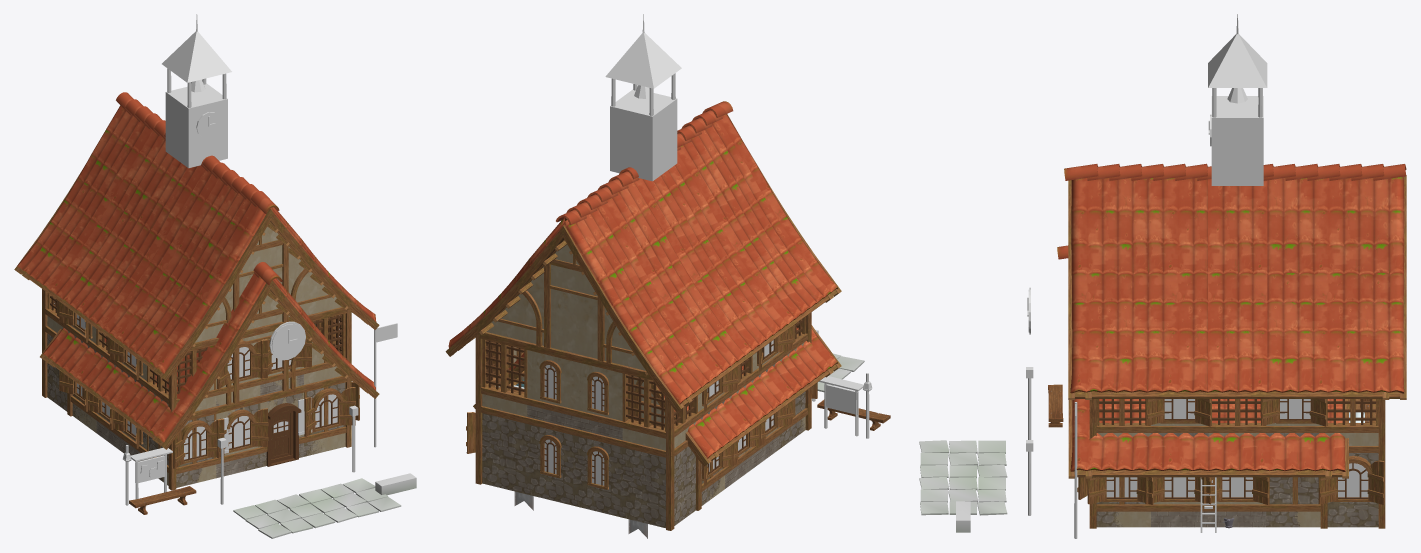
Rendered from town_hall.gltf.
3 views of the same model, side by side, from view 1: azimuth 30°, elevation 25°; view 2: azimuth 150°, elevation 25°; view 3: azimuth 270°, elevation 25° (orthographic). The views are drawn at different scales.
Visible parts, largest first — view 1: T3_KitRoofRoundTiles8x10137, T2_KitRoofRoundTiles8x8061, T3_KitRoofFrontBrick8138, T2_KitRoofFrontBrick8062, T3_Tower155, T3_TowerRoof161, T2_KitDoor1Round008, T2_KitWallPlasterWoodGrid010, T2_KitWallPlasterWindowWideRound002, T3_KitWindowShuttersWideRoundOpen016, AO-clocktower_BigClock001, T2_KitDoorFrameRoundWoodDark007 (+22 smaller); view 2: T3_KitRoofRoundTiles8x10137, T3_KitRoofFrontBrick8139, T2_KitRoofRoundTiles8x8061, T3_Tower155, T3_KitWallUnevenBrickStraight017, T3_KitWallUnevenBrickStraight024, T3_KitWallUnevenBrickWindowThinRound021, T3_KitWallUnevenBrickWindowThinRound018, T3_KitWallPlasterWoodGrid084, T3_KitWallPlasterWoodGrid091, T3_KitWallPlasterWindowThinRound085, T3_KitWallPlasterWindowThinRound088 (+16 smaller); view 3: T3_KitRoofRoundTiles8x10137, T2_KitRoofRoundTiles8x8061, T3_Tower155, T3_TowerRoof161, T3_KitWallUnevenBrickStraight045, T3_KitWallPlasterWoodGrid113, T3_KitWallUnevenBrickWindowWideRound046, T3_KitWallPlasterWoodGrid108, T2_KitWallPlasterWindowWideRound032, T2_KitWallPlasterWindowWideRound036, T3_KitWallPlasterWoodGrid103, T3_KitWindowShuttersWideRoundOpen049 (+14 smaller).
Boxes of the visible parts, bbox=[...] form: T3_KitRoofRoundTiles8x10137: bbox=[14, 92, 379, 380]; T2_KitRoofRoundTiles8x8061: bbox=[40, 262, 379, 449]; T3_KitRoofFrontBrick8138: bbox=[188, 223, 352, 351]; T2_KitRoofFrontBrick8062: bbox=[188, 291, 351, 420]; T3_Tower155: bbox=[165, 83, 227, 168]; T3_TowerRoof161: bbox=[162, 31, 231, 82]; T2_KitDoor1Round008: bbox=[271, 410, 293, 463]; T2_KitWallPlasterWoodGrid010: bbox=[304, 382, 346, 454]; T2_KitWallPlasterWindowWideRound002: bbox=[216, 407, 261, 478]; T3_KitWindowShuttersWideRoundOpen016: bbox=[304, 387, 355, 436]; AO-clocktower_BigClock001: bbox=[271, 324, 304, 358]; T2_KitDoorFrameRoundWoodDark007: bbox=[266, 403, 301, 466]; T3_KitRoofRoundTiles8x10137: bbox=[445, 101, 841, 411]; T3_KitRoofFrontBrick8139: bbox=[475, 240, 652, 380]; T2_KitRoofRoundTiles8x8061: bbox=[473, 325, 841, 466]; T3_Tower155: bbox=[610, 89, 677, 181]; T3_KitWallUnevenBrickStraight017: bbox=[481, 406, 527, 494]; T3_KitWallUnevenBrickStraight024: bbox=[621, 440, 665, 528]; T3_KitWallUnevenBrickWindowThinRound021: bbox=[573, 428, 622, 517]; T3_KitWallUnevenBrickWindowThinRound018: bbox=[526, 417, 574, 505]; T3_KitWallPlasterWoodGrid084: bbox=[481, 339, 527, 416]; T3_KitWallPlasterWoodGrid091: bbox=[621, 373, 665, 450]; T3_KitWallPlasterWindowThinRound085: bbox=[526, 350, 574, 428]; T3_KitWallPlasterWindowThinRound088: bbox=[573, 361, 622, 439]; T3_KitRoofRoundTiles8x10137: bbox=[1064, 163, 1406, 400]; T2_KitRoofRoundTiles8x8061: bbox=[1057, 245, 1348, 478]; T3_Tower155: bbox=[1211, 96, 1263, 185]; T3_TowerRoof161: bbox=[1208, 34, 1267, 87]; T3_KitWallUnevenBrickStraight045: bbox=[1266, 477, 1318, 527]; T3_KitWallPlasterWoodGrid113: bbox=[1324, 399, 1378, 445]; T3_KitWallUnevenBrickWindowWideRound046: bbox=[1327, 446, 1378, 527]; T3_KitWallPlasterWoodGrid108: bbox=[1208, 399, 1266, 436]; T2_KitWallPlasterWindowWideRound032: bbox=[1151, 501, 1208, 527]; T2_KitWallPlasterWindowWideRound036: bbox=[1208, 501, 1266, 527]; T3_KitWallPlasterWoodGrid103: bbox=[1096, 399, 1150, 436]; T3_KitWindowShuttersWideRoundOpen049: bbox=[1318, 460, 1384, 504].
Bounding box in the file's own units: 12.51 × 18.6 × 16.87.
Materials: 60 (60 with a texture image).
